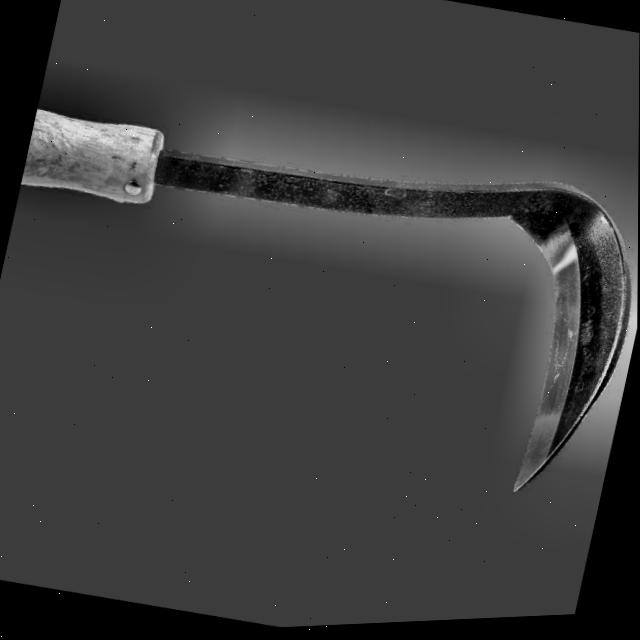celurit: (18, 92, 638, 496)
pistol: (22, 191, 41, 197)
